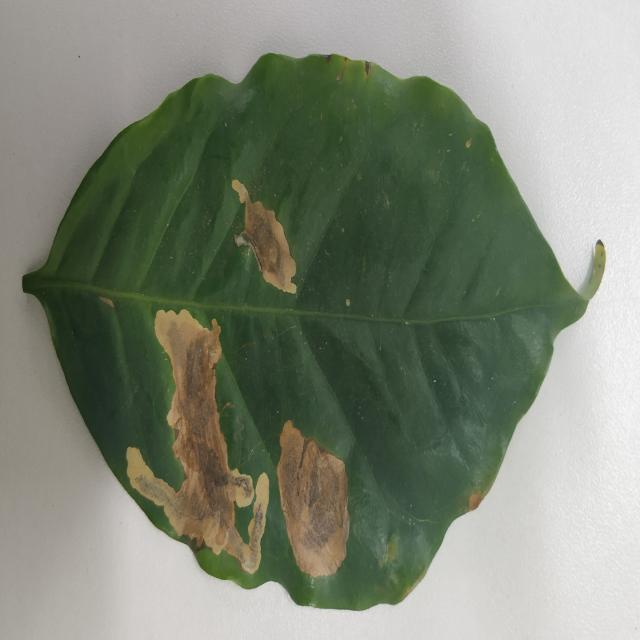Plaga-Minador: (20, 54, 606, 614)
